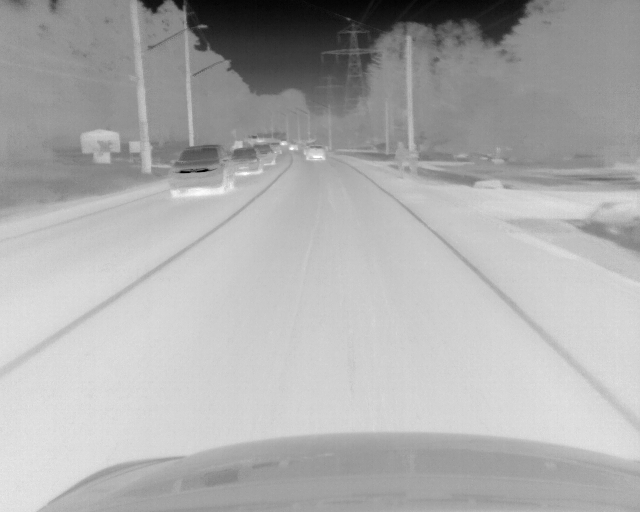car: (168, 146, 235, 196), (230, 146, 263, 176), (305, 144, 326, 161), (259, 144, 275, 165), (274, 143, 283, 157), (288, 141, 298, 152)
people: (406, 144, 420, 182), (394, 141, 405, 181)
